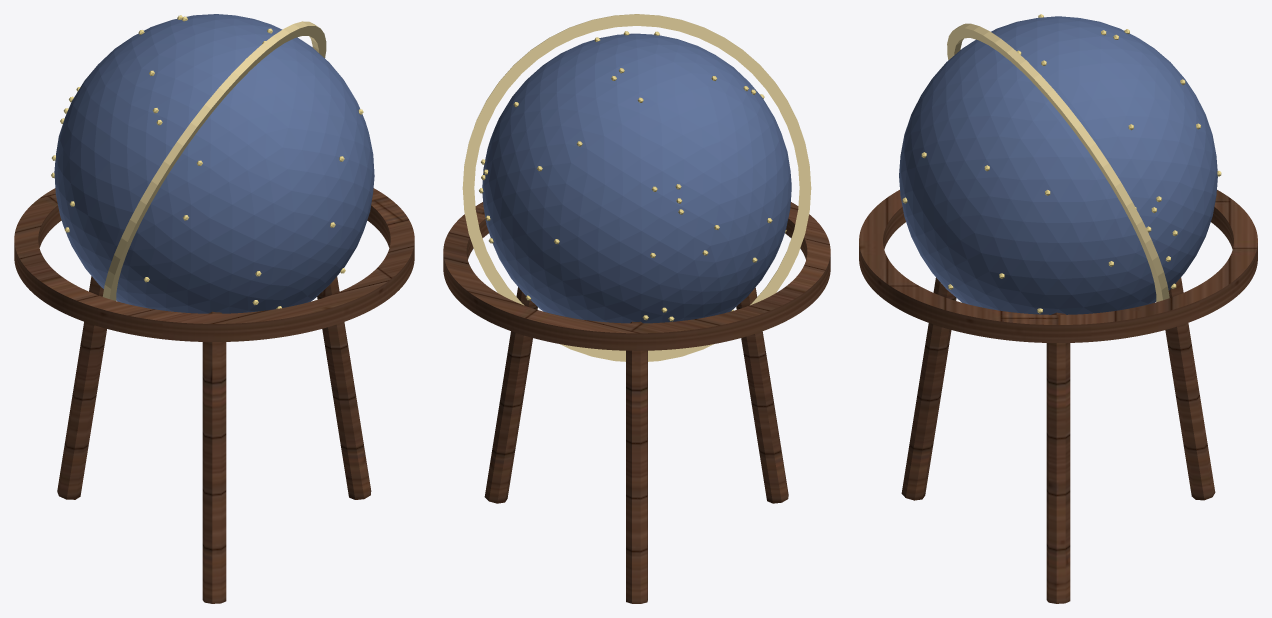
The model's file is celestial_globe.glb.
3 views of the same model, side by side, from view 1: azimuth 30°, elevation 25°; view 2: azimuth 150°, elevation 25°; view 3: azimuth 270°, elevation 25° (orthographic). The views are drawn at different scales.
Visible parts, largest first — view 1: celestial_globe_chart, celestial_globe_dkwood, celestial_globe_brass, celestial_globe_gold; view 2: celestial_globe_chart, celestial_globe_dkwood, celestial_globe_brass, celestial_globe_gold; view 3: celestial_globe_chart, celestial_globe_dkwood, celestial_globe_brass, celestial_globe_gold.
Boxes of the visible parts, x1,y1,x2,y2 form: celestial_globe_chart: (54,14,374,313); celestial_globe_dkwood: (14,188,414,603); celestial_globe_brass: (102,21,326,300); celestial_globe_gold: (51,15,363,308); celestial_globe_chart: (482,33,791,323); celestial_globe_dkwood: (443,202,830,603); celestial_globe_brass: (462,14,811,361); celestial_globe_gold: (479,31,786,321); celestial_globe_chart: (899,16,1217,314); celestial_globe_dkwood: (859,190,1257,603); celestial_globe_brass: (947,23,1169,302); celestial_globe_gold: (902,14,1221,313).
Bounding box in the file's own units: 1 × 1.4 × 1.
4 materials, 1 textured.
